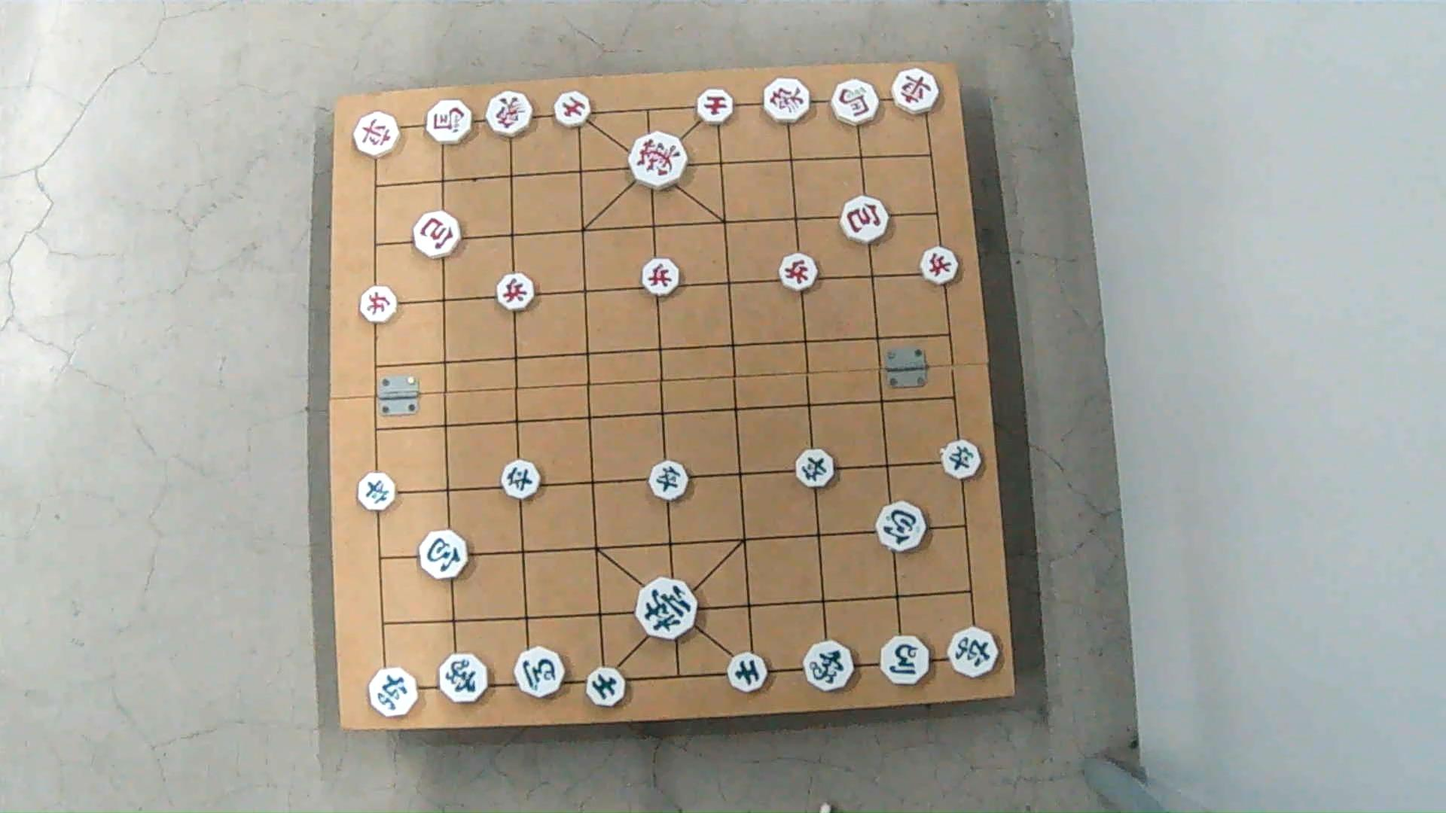cha_green: (950, 626, 999, 679), (369, 668, 419, 716)
cha_red: (892, 70, 940, 112), (352, 114, 397, 154)
jol_green: (941, 441, 984, 477), (499, 462, 539, 500), (648, 461, 689, 498), (795, 449, 835, 486), (360, 475, 399, 511)
jol_red: (921, 248, 962, 284), (780, 256, 822, 291), (641, 259, 680, 295), (493, 274, 533, 309), (358, 285, 396, 320)
ma_green: (515, 647, 566, 697), (879, 635, 929, 683)
ma_red: (829, 80, 878, 123), (427, 101, 474, 142)
po_green: (417, 528, 468, 580), (877, 504, 927, 552)
po_red: (412, 212, 461, 257), (841, 198, 889, 242)
sa_green: (583, 666, 630, 709), (727, 650, 769, 695)
sa_red: (554, 93, 593, 127), (695, 90, 735, 123)
sang_green: (438, 652, 492, 706), (803, 644, 853, 691)
sang_red: (487, 90, 534, 140), (763, 79, 812, 121)
wang_green: (634, 579, 697, 638)
wang_red: (629, 132, 687, 186)
